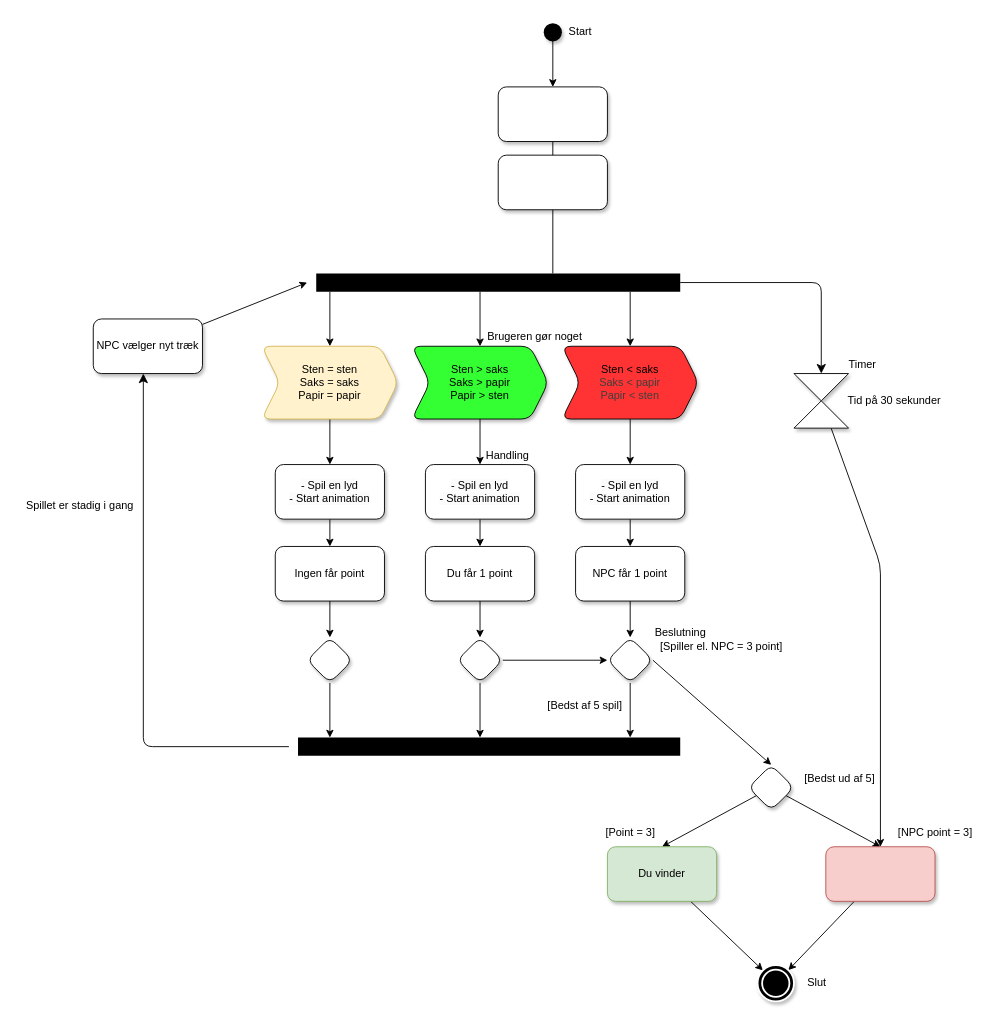
This 1000x1024 diagram has some shape labels left out. The shapes that lost their labels are listed below. From the top down, each one's centre as x and y in pixels, then its label:
pixel 553 115: Vælg sten, saks el. papir
pixel 553 183: NPC vælger træk
pixel 880 875: NPC vinder
